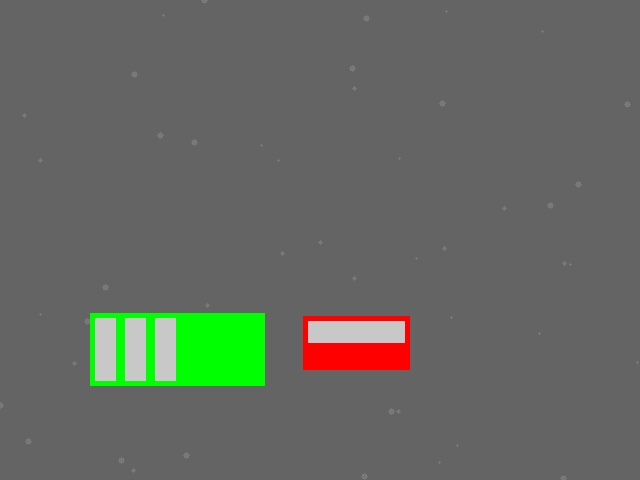bus: (90, 313, 264, 385)
car: (303, 316, 409, 369)
